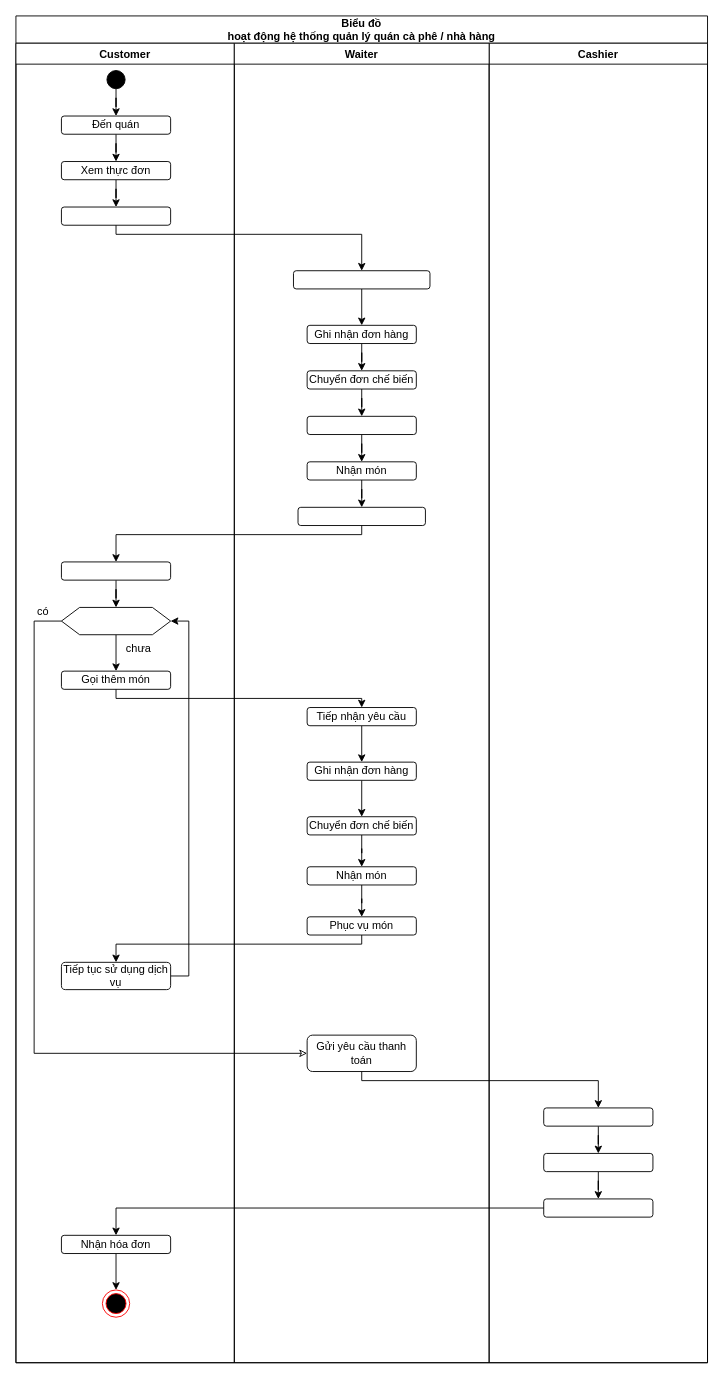
Some shapes in this 723 by 1379 pixel diagram are drawn without their labels. Each missing label, with the centre of its shape:
Chọn món: point (116, 215)
Chờ món hoàn thành: point (361, 425)
In hóa đơn: point (598, 1207)
Lập hóa đơn: point (598, 1116)
Nhận thanh toán: point (598, 1162)
Phục vụ món cho khách: point (361, 516)
Sử dụng dịch vụ: point (116, 570)
Tiếp nhận yêu cầu gọi món: point (361, 279)
Yêu cầu thanh toán: point (116, 621)
